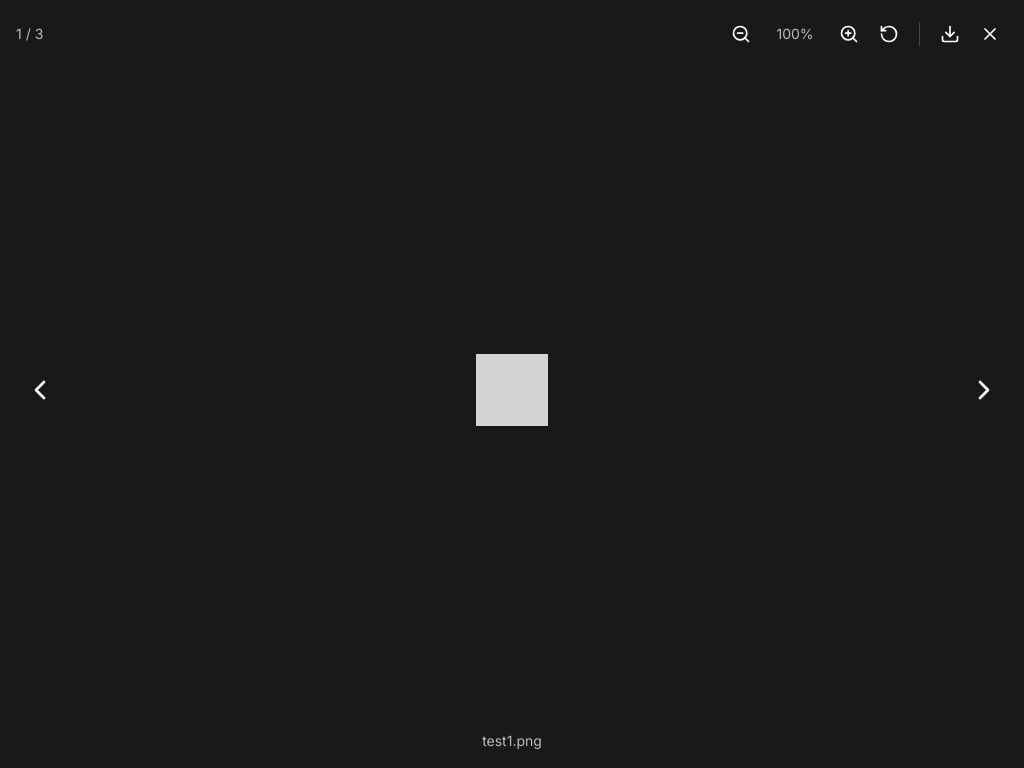
Test: ImageLightbox › zoom controls › should decrease zoom when zoom out button is clicked
The image size is (1024, 768).
Click the button named "Zoom out" at (741,34), box top-left (723, 16), bottom-right (759, 52)
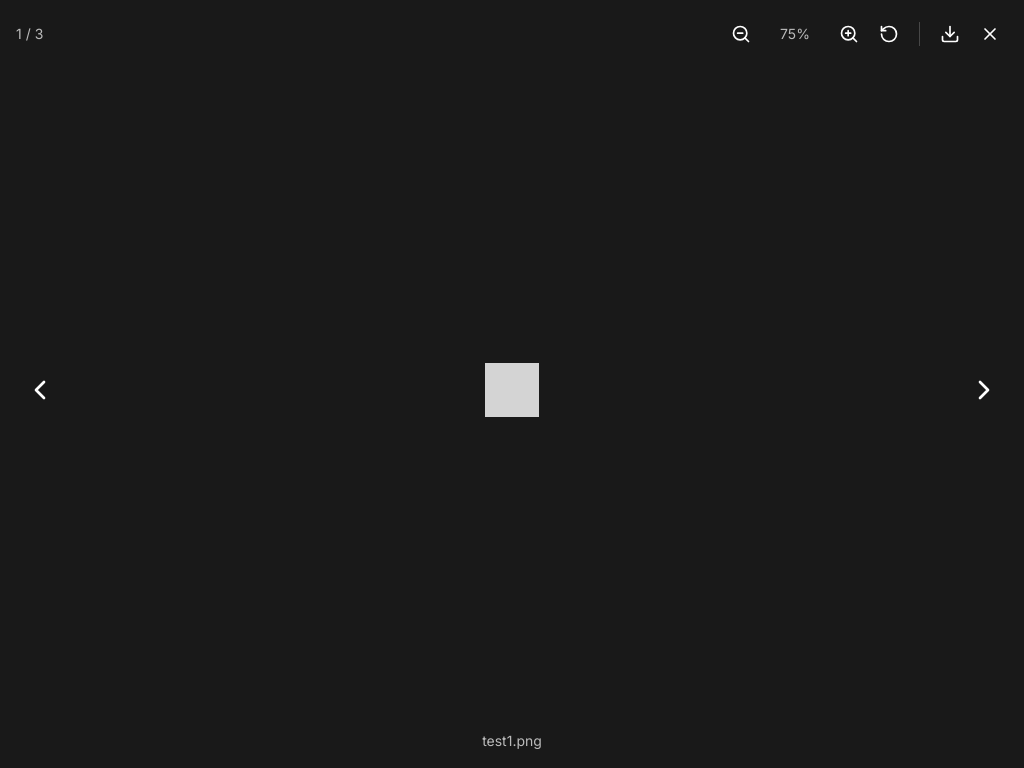
expect the text "75%" is shown: met, box top-left (780, 25), bottom-right (810, 42)
